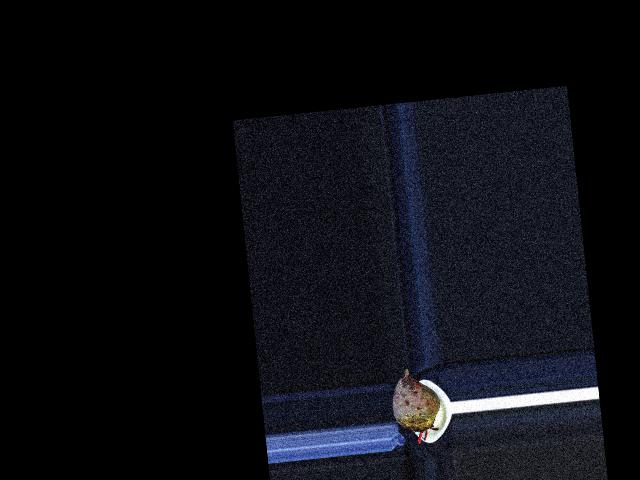beet: (390, 366, 443, 446)
